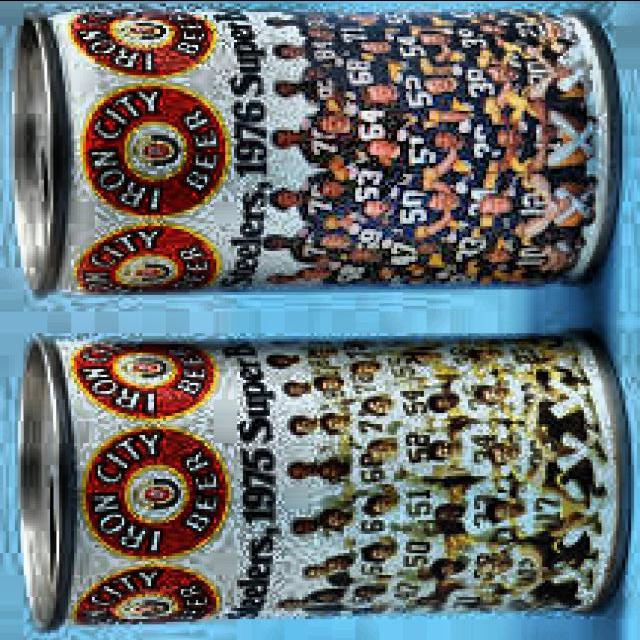litter: (14, 318, 636, 640), (8, 0, 626, 297)
